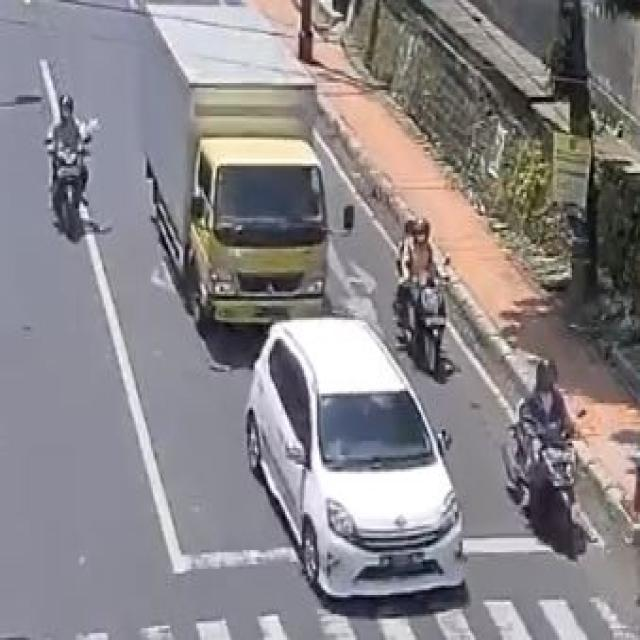car: (240, 325, 484, 610)
motorbike: (514, 334, 596, 558), (393, 196, 484, 372), (20, 90, 109, 246)
truck: (131, 7, 371, 323)
